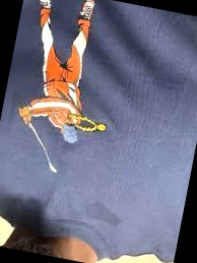oil: (84, 196, 123, 229)
